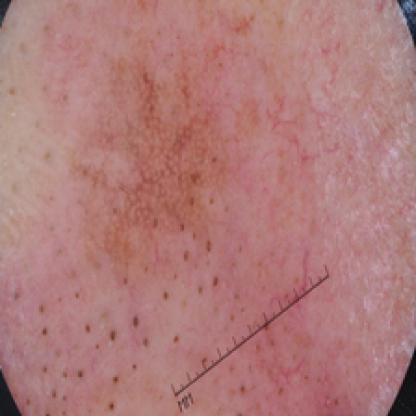malignant: (80, 65, 256, 286)
